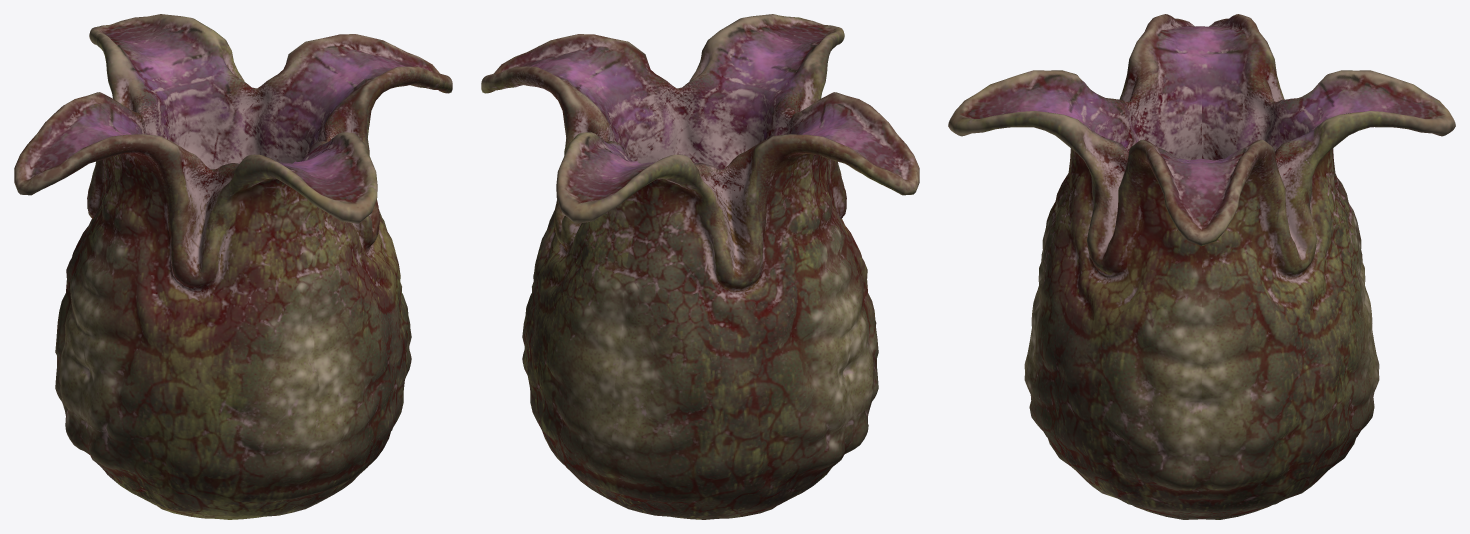
The model's file is egg.glb.
3 renders of one model, left to right at view 1: azimuth 30°, elevation 25°; view 2: azimuth 150°, elevation 25°; view 3: azimuth 270°, elevation 25°, orthographic.
Parts seen in each view (by area): view 1: egg_low; view 2: egg_low; view 3: egg_low.
Boxes of the visible parts, bbox=[...] form: egg_low: bbox=[14, 14, 452, 519]; egg_low: bbox=[481, 14, 919, 519]; egg_low: bbox=[948, 14, 1455, 519].
Bounding box in the file's own units: 3.56 × 3.15 × 3.65.
Materials: 1 (1 with a texture image).
